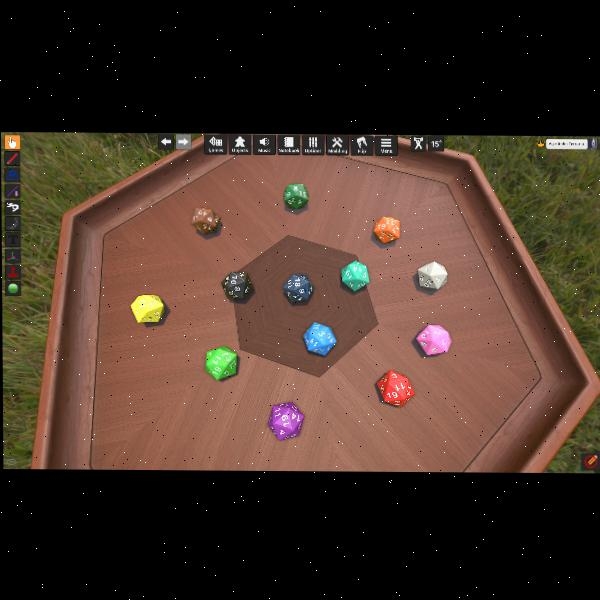d20: (267, 402, 305, 440), (378, 370, 410, 406), (302, 322, 335, 355), (206, 347, 238, 379), (283, 273, 315, 304), (416, 324, 449, 354), (131, 295, 165, 323), (221, 271, 253, 300), (340, 262, 368, 292), (192, 206, 220, 235), (417, 261, 445, 289), (373, 215, 398, 242), (283, 183, 308, 209)
